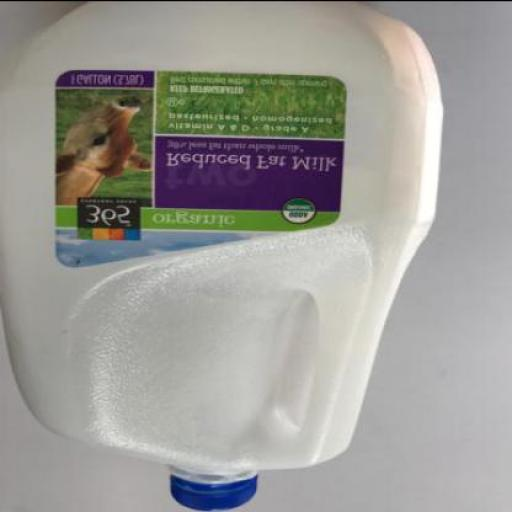plastic: (1, 1, 446, 511), (170, 468, 258, 510)
